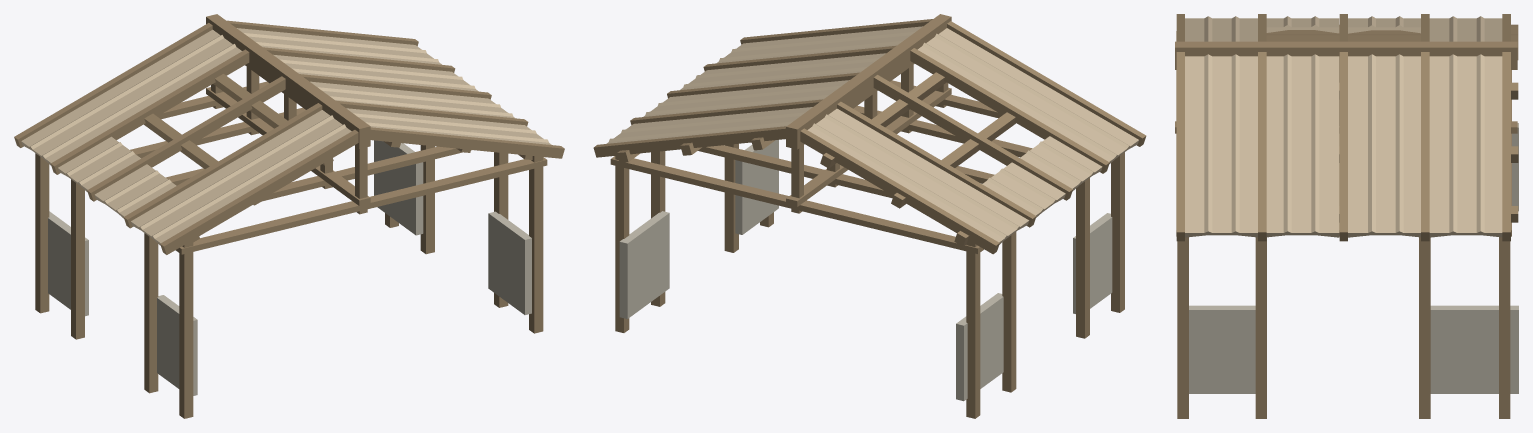
Rendered from LightWoodBuildingMediumRoofingSection1.fbx.
The picture shows the model from 3 angles, left to right: view 1: azimuth 30°, elevation 25°; view 2: azimuth 150°, elevation 25°; view 3: azimuth 270°, elevation 25°; orthographic projection. The views are drawn at different scales.
Parts seen in each view (by area): view 1: LightWoodBuildingMediumRoofingSection1; view 2: LightWoodBuildingMediumRoofingSection1; view 3: LightWoodBuildingMediumRoofingSection1.
Boxes of the visible parts, left/top/right/bottom form: LightWoodBuildingMediumRoofingSection1: left=14, top=14, right=564, bottom=418; LightWoodBuildingMediumRoofingSection1: left=593, top=14, right=1146, bottom=418; LightWoodBuildingMediumRoofingSection1: left=1175, top=14, right=1518, bottom=418.
Size of the model in its own units: 2308 by 1365 by 1536.
